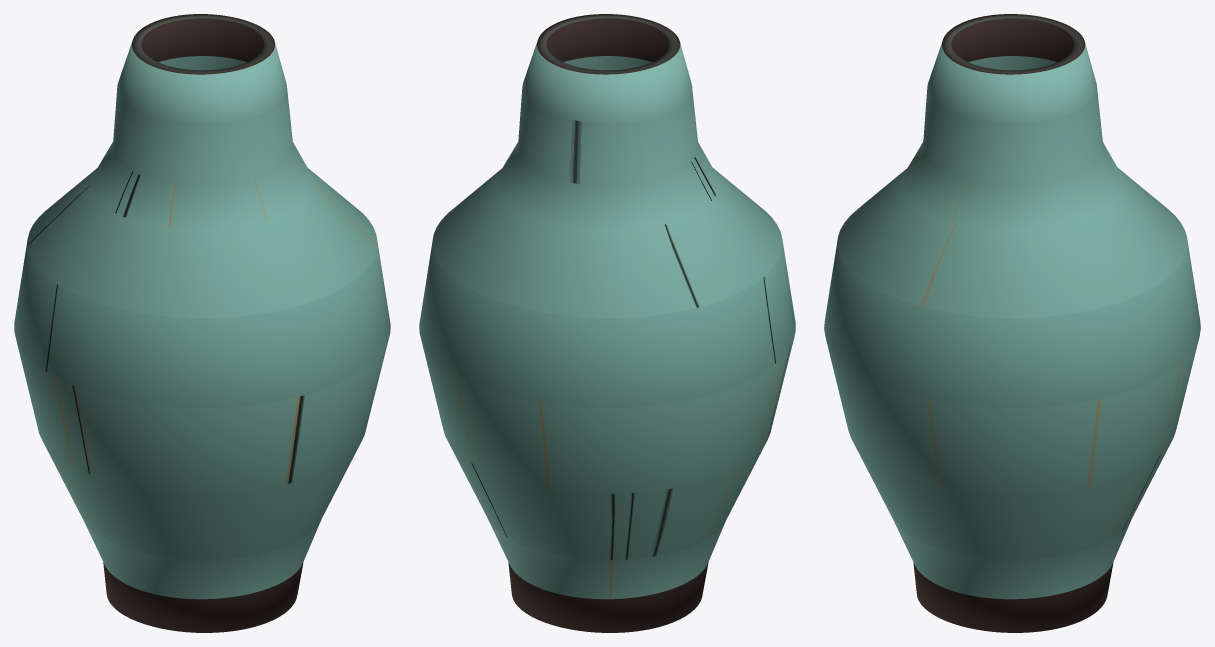
File: SongGuanYao_OctagonalVase_Master.glb
3 renders of one model, left to right at view 1: azimuth 30°, elevation 25°; view 2: azimuth 150°, elevation 25°; view 3: azimuth 270°, elevation 25°, orthographic.
Parts seen in each view (by area): view 1: SongGuanYao_OctagonalVase_Master; view 2: SongGuanYao_OctagonalVase_Master; view 3: SongGuanYao_OctagonalVase_Master.
Part boxes in pixels (x1,y1,x2,y2): SongGuanYao_OctagonalVase_Master: (14, 14, 390, 632); SongGuanYao_OctagonalVase_Master: (419, 14, 795, 632); SongGuanYao_OctagonalVase_Master: (824, 14, 1200, 632).
Size of the model in its own units: 0.142 by 0.228 by 0.142.
1 material, 1 textured.
